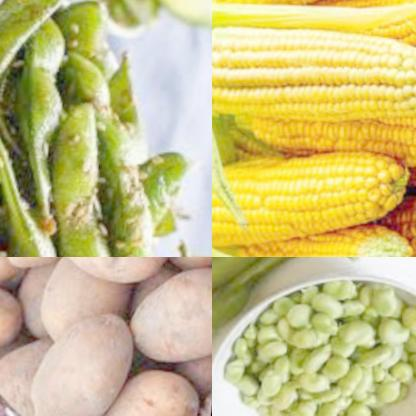beans: (0, 0, 212, 257), (221, 282, 416, 416), (212, 257, 328, 416)
corn: (212, 14, 416, 130), (212, 146, 415, 251), (249, 104, 416, 164), (230, 221, 416, 257), (305, 0, 416, 45), (393, 195, 416, 257)
potato: (26, 293, 143, 416), (122, 263, 212, 358), (38, 257, 125, 344), (85, 363, 201, 416), (0, 323, 55, 416), (33, 257, 179, 277), (0, 278, 21, 362)
